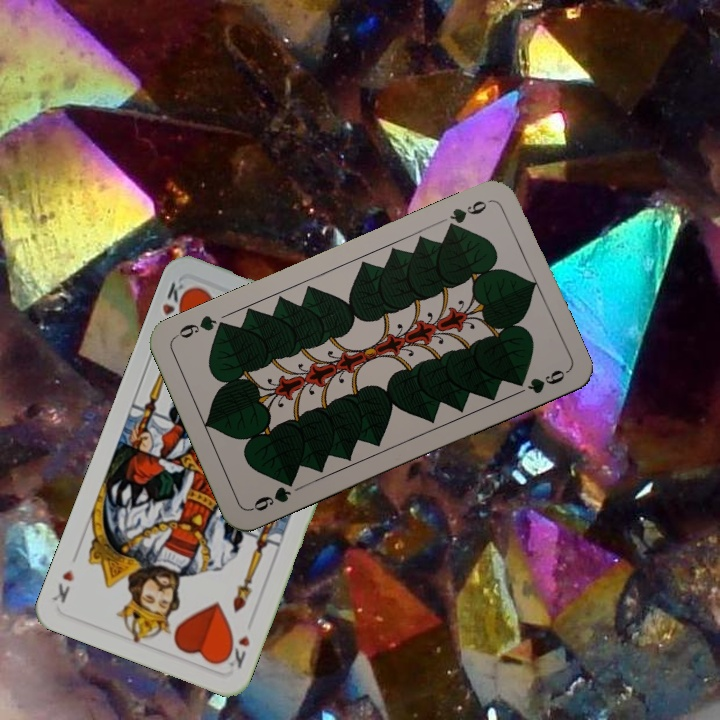G9: (246, 474, 298, 514), (442, 195, 494, 234)
HK: (158, 277, 193, 320), (219, 631, 253, 671)
